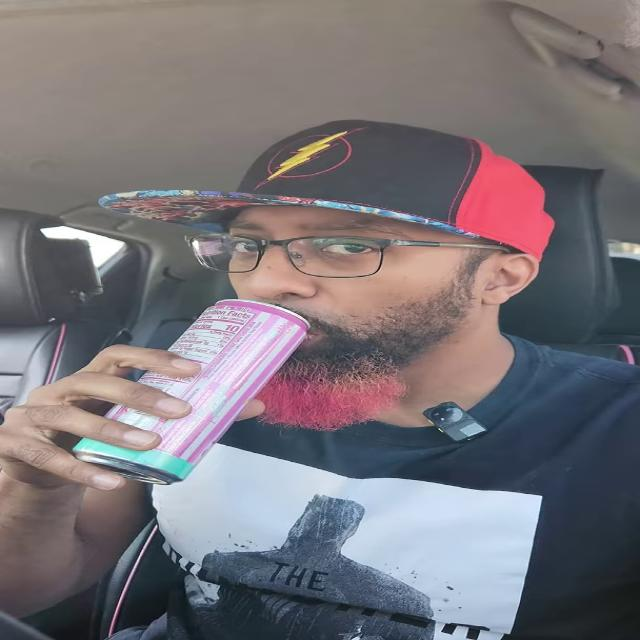Can: (71, 299, 308, 482)
Hand: (19, 337, 268, 490)
Mouth: (253, 311, 350, 348)
